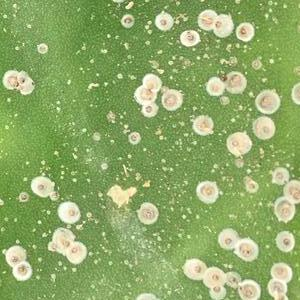Femea: (160, 89, 179, 110), (196, 11, 213, 28), (267, 280, 285, 296), (276, 201, 294, 217), (285, 179, 299, 199), (213, 16, 226, 37), (132, 86, 153, 99), (226, 73, 242, 90), (278, 230, 291, 249), (60, 202, 75, 218), (30, 176, 45, 192), (142, 74, 157, 90), (207, 81, 225, 94), (6, 249, 21, 264), (228, 136, 244, 150), (256, 122, 272, 136), (259, 92, 273, 108), (210, 268, 222, 286), (237, 246, 255, 258), (67, 243, 82, 257), (270, 168, 284, 183), (181, 30, 197, 43), (194, 117, 208, 131), (209, 286, 224, 299), (61, 231, 75, 244), (235, 23, 249, 36), (199, 186, 217, 196), (5, 75, 17, 90), (219, 234, 233, 246), (12, 264, 28, 274), (156, 16, 170, 27), (16, 71, 27, 85), (270, 266, 287, 275), (226, 271, 236, 286), (187, 263, 203, 272), (143, 104, 153, 116), (15, 192, 28, 201), (126, 132, 137, 141), (245, 182, 256, 191), (122, 16, 134, 23)
Linfa: (156, 223, 180, 242), (173, 177, 193, 199), (176, 55, 194, 71), (181, 207, 200, 222), (159, 156, 174, 174), (174, 131, 190, 147), (72, 225, 94, 236), (174, 227, 193, 239), (104, 108, 118, 123), (84, 79, 99, 92), (238, 102, 247, 123), (118, 108, 127, 124), (194, 137, 202, 153), (147, 58, 158, 68), (58, 164, 64, 181), (96, 245, 101, 259), (122, 258, 131, 265), (99, 162, 107, 169), (86, 249, 93, 256), (106, 260, 114, 266), (202, 53, 210, 59), (70, 176, 77, 182), (115, 72, 122, 78), (91, 258, 98, 263), (247, 90, 252, 97), (143, 24, 150, 29), (166, 59, 173, 64), (195, 54, 200, 61), (146, 29, 152, 34), (143, 40, 150, 44), (145, 19, 152, 23), (157, 49, 162, 54)
Macho: (197, 13, 213, 19), (119, 163, 125, 178)
